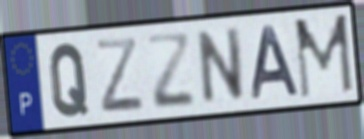A: (250, 23, 302, 102)
M: (292, 11, 356, 102)
N: (196, 24, 246, 108)
Q: (47, 40, 90, 120)
Z: (93, 34, 147, 115), (144, 32, 197, 112)
